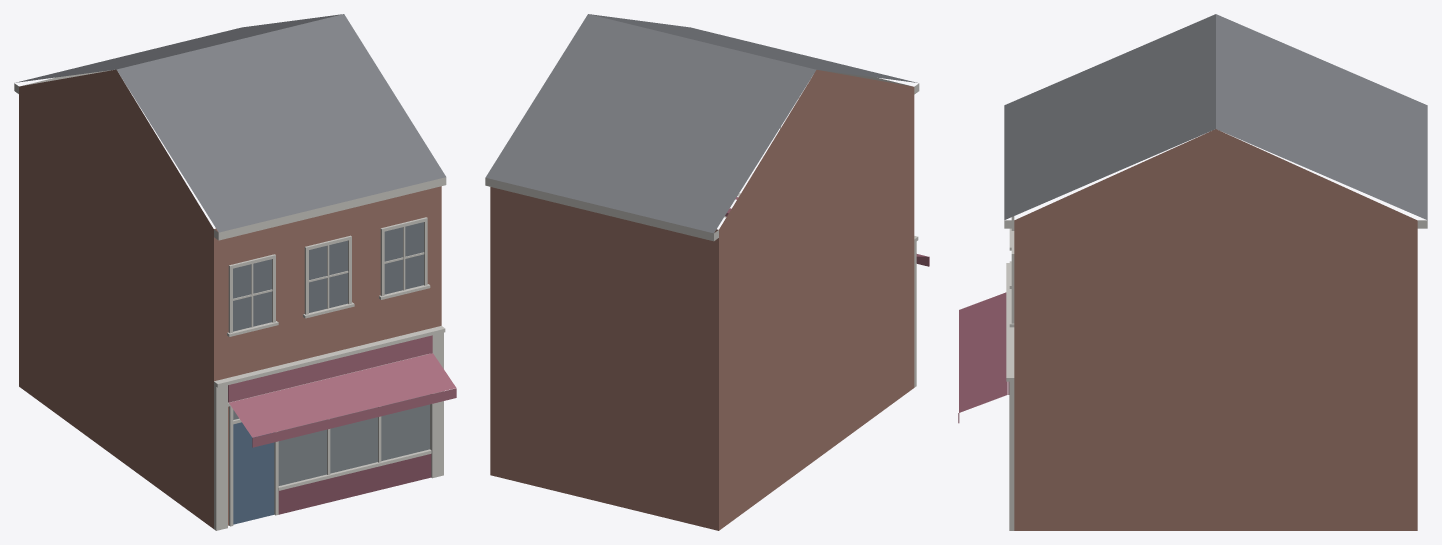
The model's file is fashion_shop.glb.
3 views of the same model, side by side, from view 1: azimuth 30°, elevation 25°; view 2: azimuth 150°, elevation 25°; view 3: azimuth 270°, elevation 25° (orthographic). The views are drawn at different scales.
Parts seen in each view (by area): view 1: Part0; view 2: Part0; view 3: Part0.
Boxes of the visible parts, x1,y1,x2,y2 form: Part0: [14, 14, 456, 530]; Part0: [485, 14, 929, 530]; Part0: [958, 14, 1427, 530].
Bounding box in the file's own units: 5.4 × 8.8 × 9.31.
